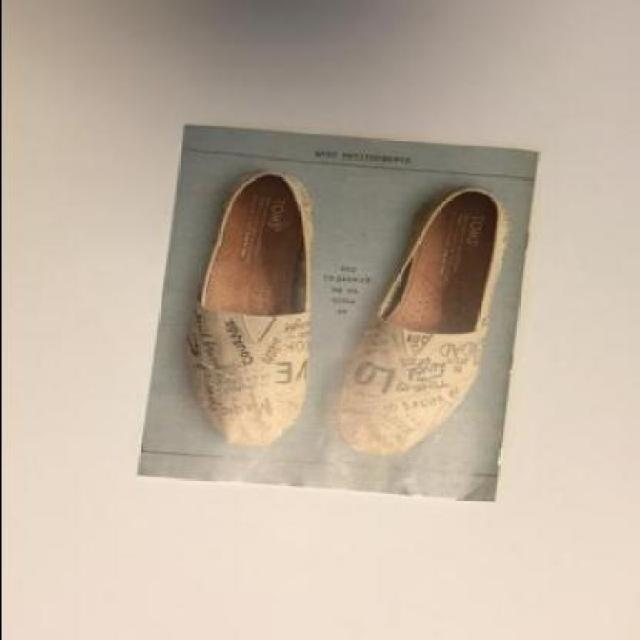PAPER: (133, 125, 535, 504)
